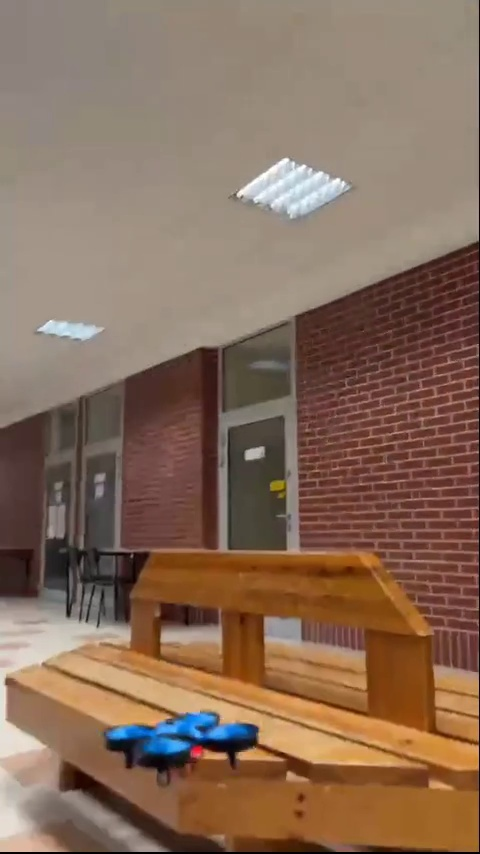drone: (107, 716, 249, 776)
